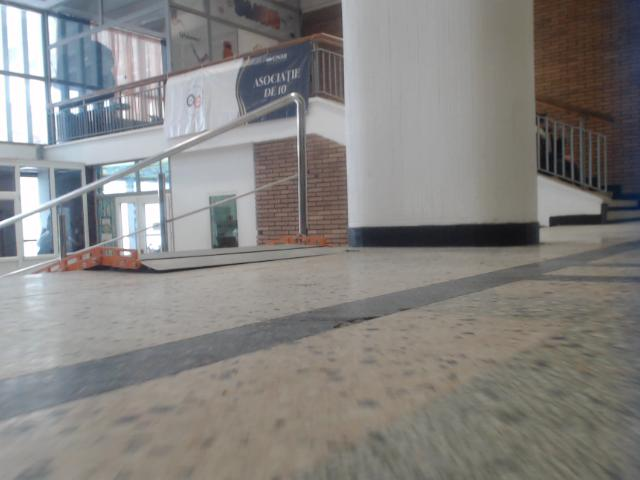rampDown: (35, 243, 341, 272)
ramps-railing: (0, 91, 309, 260), (158, 169, 298, 254)
